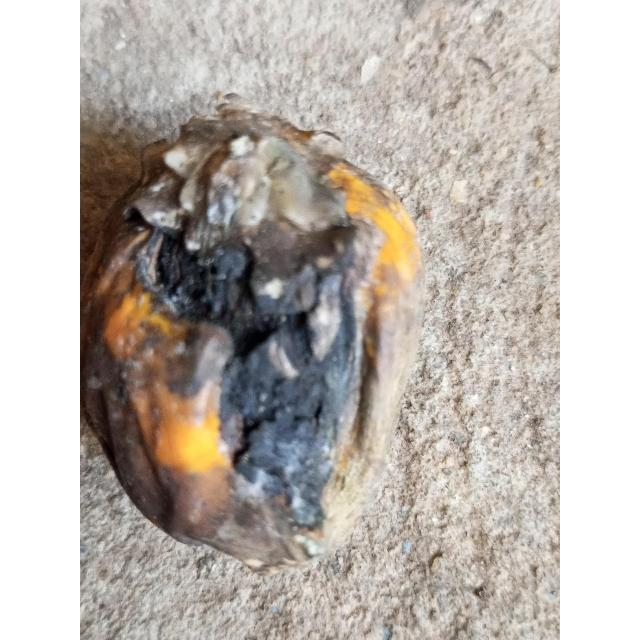damaged: (80, 93, 423, 574)
